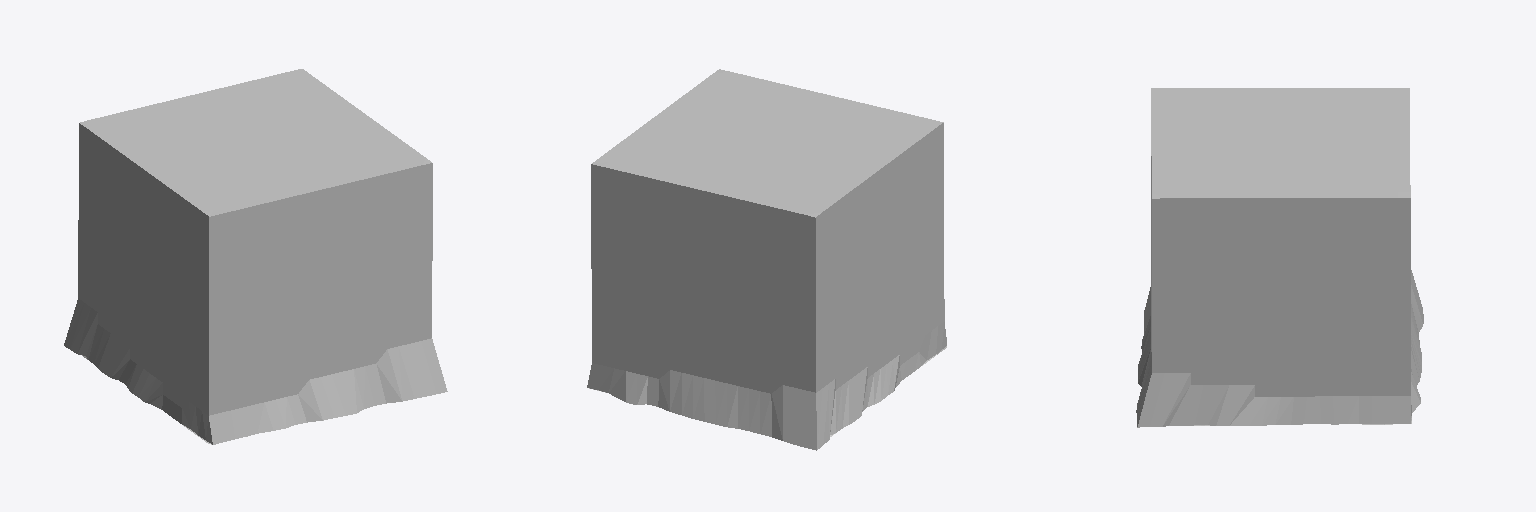
File: mod0230.obj
3 views of the same model, side by side, from view 1: azimuth 30°, elevation 25°; view 2: azimuth 150°, elevation 25°; view 3: azimuth 270°, elevation 25° (orthographic).
Parts seen in each view (by area): view 1: Box001; view 2: Box001; view 3: Box001.
Part boxes in pixels (x1,y1,x2,y2): Box001: (64, 69, 447, 444); Box001: (587, 69, 946, 450); Box001: (1136, 88, 1423, 427).
Size of the model in its own units: 0.5799 by 0.5218 by 0.5979.